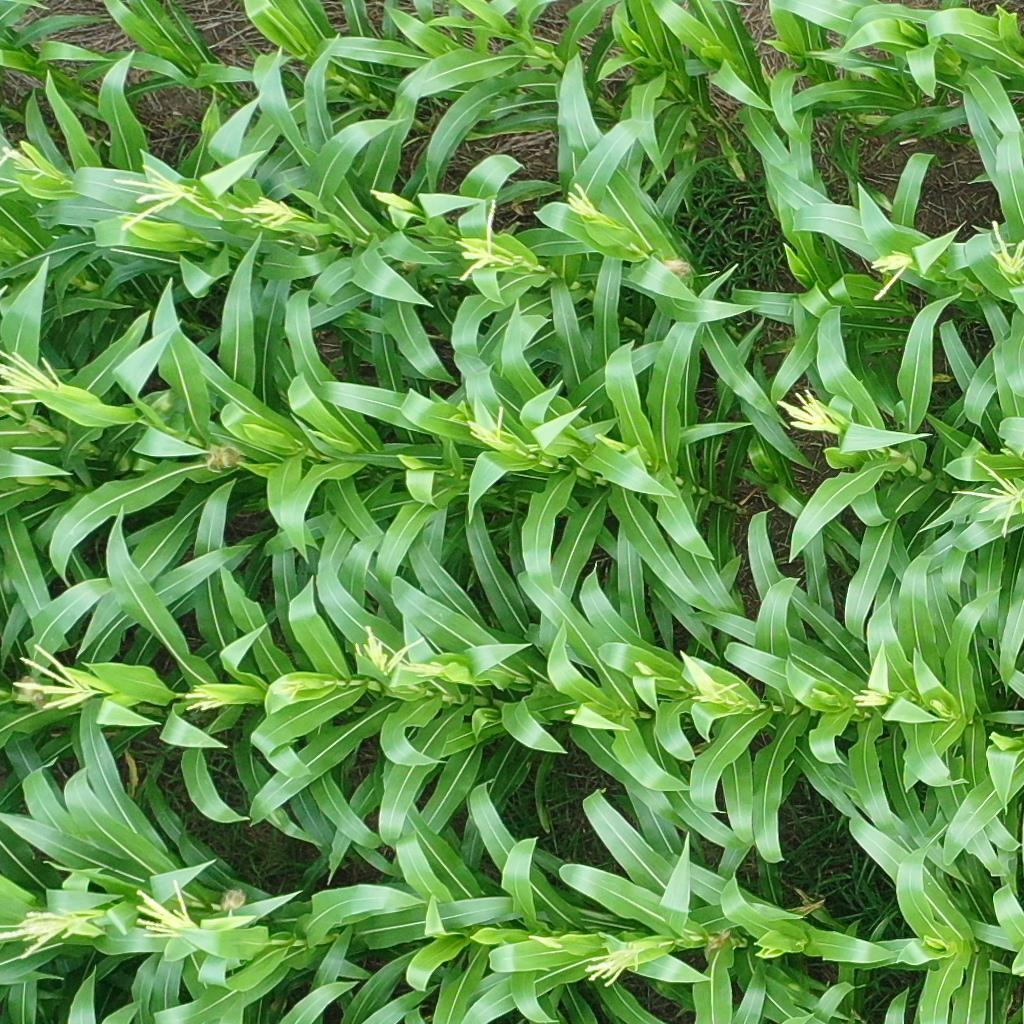Tassel: (949, 446, 1023, 539), (111, 173, 221, 233), (348, 624, 451, 683), (13, 642, 100, 711), (1, 906, 92, 962), (457, 196, 514, 279), (127, 880, 199, 943), (1, 347, 66, 405), (581, 937, 638, 990), (776, 384, 836, 433), (227, 193, 299, 233), (464, 404, 516, 453), (989, 214, 1024, 282), (873, 247, 914, 300), (1, 142, 53, 183), (561, 183, 598, 215), (691, 682, 742, 705), (368, 187, 408, 213), (183, 683, 220, 711), (851, 688, 889, 709), (270, 682, 302, 700), (630, 658, 651, 679), (930, 696, 949, 715)
